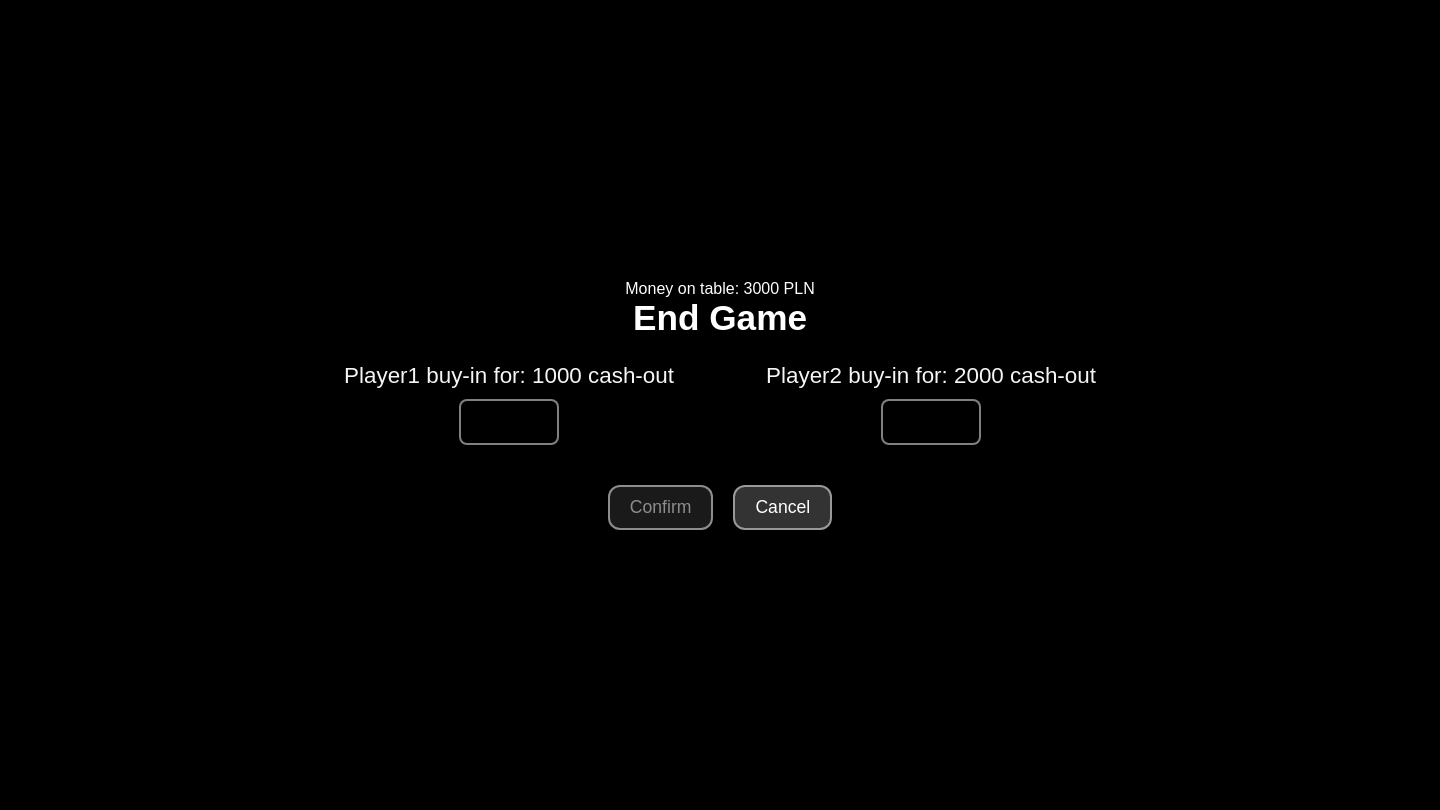
Test case: EndGameModal Component › should update total money on the table when payouts are changed
Check: the text "Money on table: 3000 PLN" is shown, box [625, 280, 815, 297]
In the number field below "Player1": (509, 422) [459, 399, 559, 445], type "500"
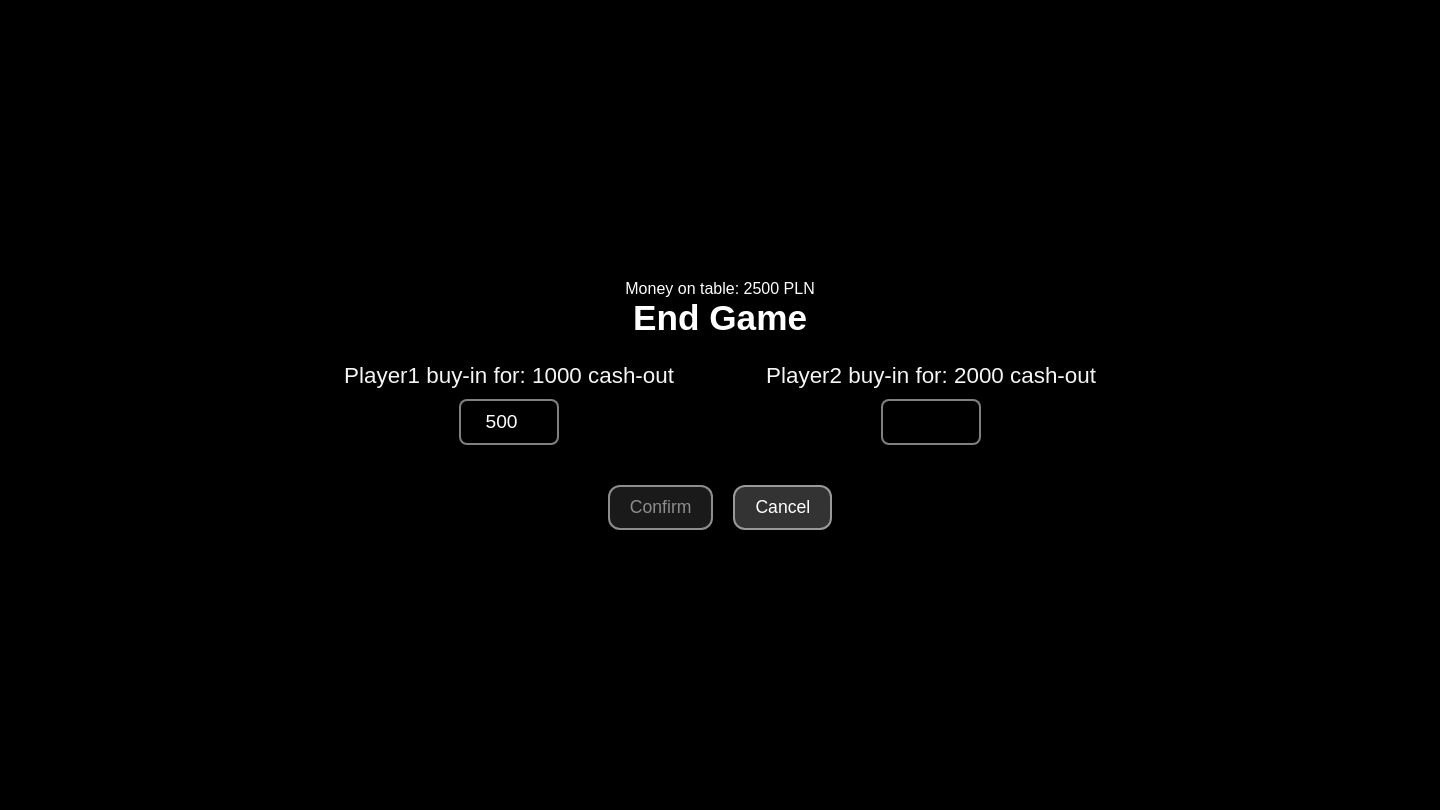
In the number field below "Player2": (931, 422) [881, 399, 981, 445], type "2500"
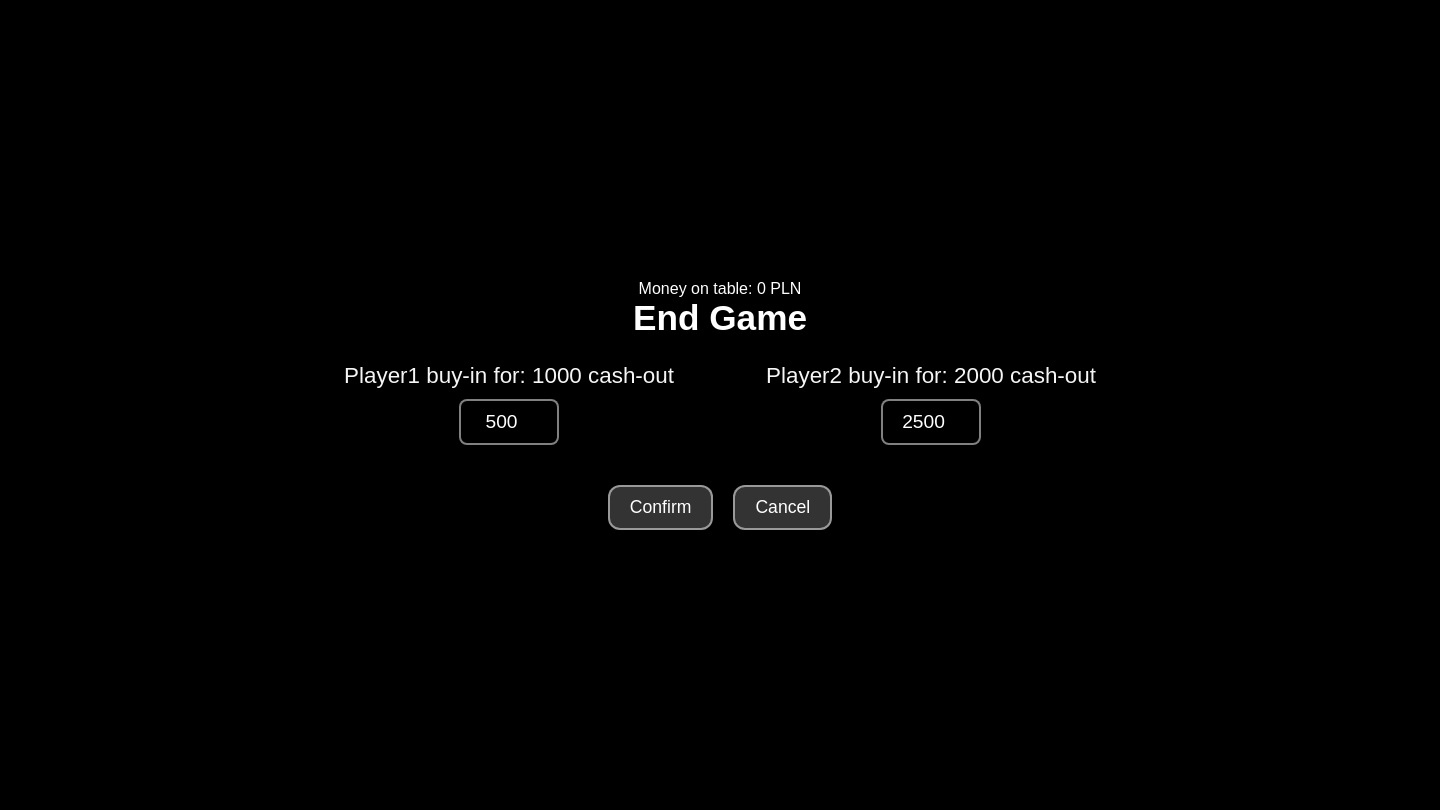
Check: the text "Money on table: 0 PLN" is shown, box [639, 280, 801, 297]
